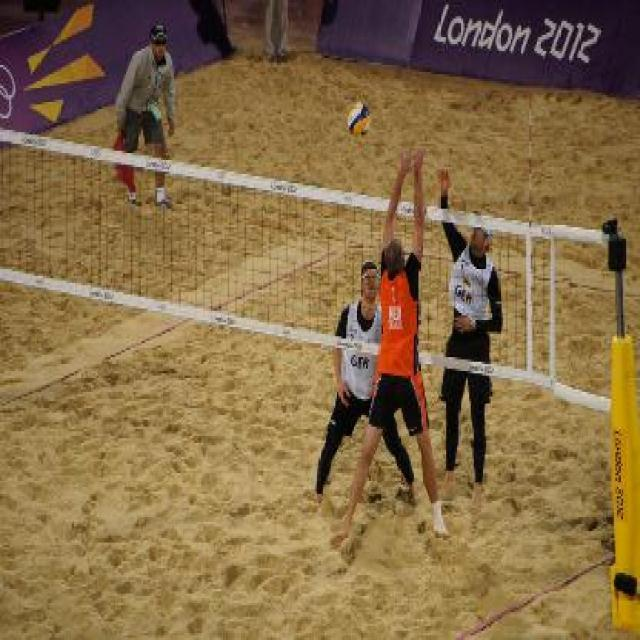volleyball: (345, 102, 370, 135)
